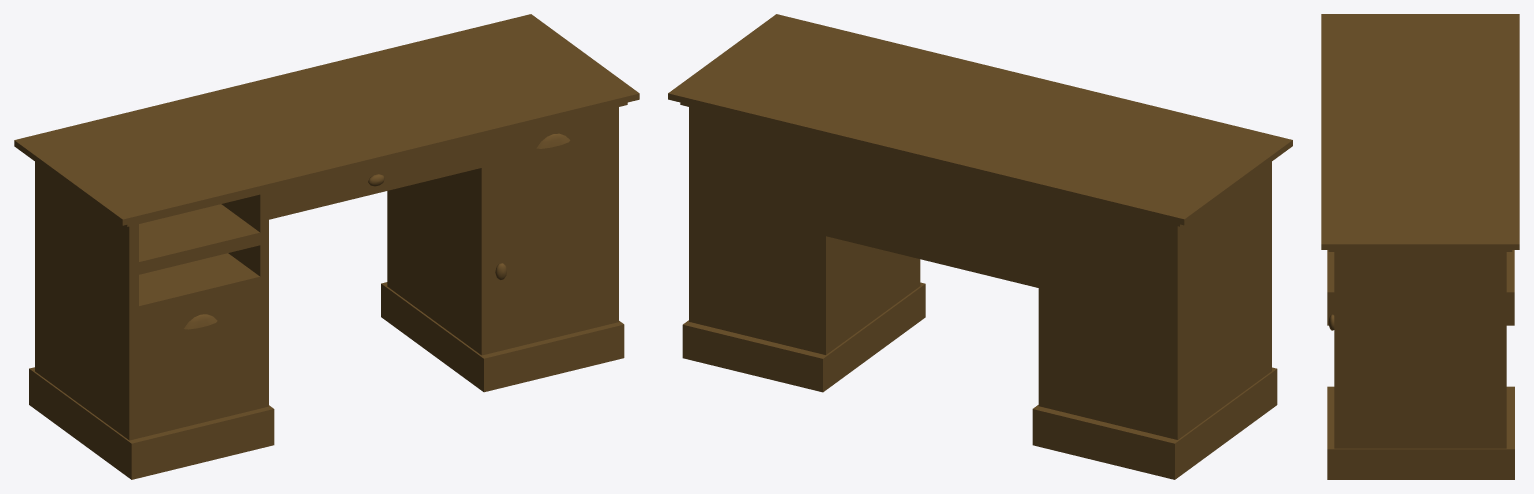
The model's file is Desk_low.fbx.
3 renders of one model, left to right at view 1: azimuth 30°, elevation 25°; view 2: azimuth 150°, elevation 25°; view 3: azimuth 270°, elevation 25°, orthographic. The views are drawn at different scales.
Parts seen in each view (by area): view 1: Desk_low; view 2: Desk_low; view 3: Desk_low.
Boxes of the visible parts, bbox=[...] form: Desk_low: bbox=[14, 14, 639, 479]; Desk_low: bbox=[668, 14, 1292, 479]; Desk_low: bbox=[1321, 14, 1519, 479].
Bounding box in the file's own units: 1.99 × 0.9796 × 0.7253.
